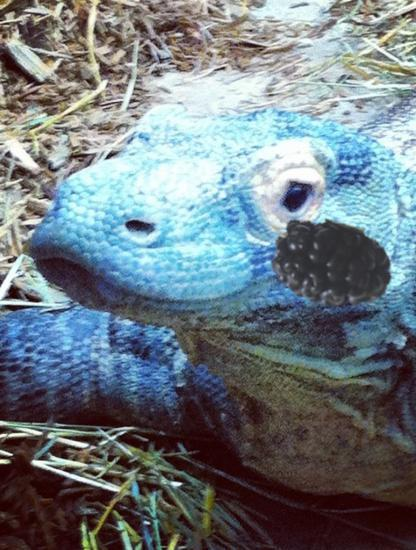Mulberry: (259, 211, 392, 344)
